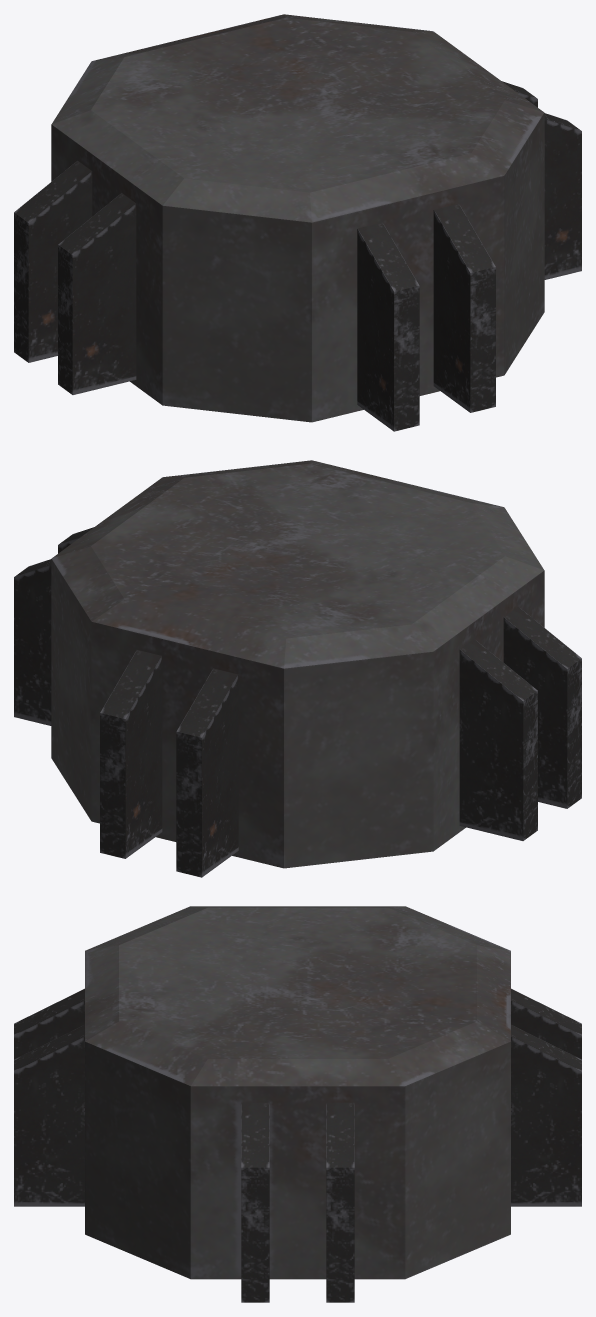
The model's file is barbette_m_1.fbx.
The picture shows the model from 3 angles, top to bottom: view 1: azimuth 30°, elevation 25°; view 2: azimuth 150°, elevation 25°; view 3: azimuth 270°, elevation 25°; orthographic projection. The views are drawn at different scales.
Visible parts, largest first — view 1: barbette_m_1; view 2: barbette_m_1; view 3: barbette_m_1.
Part boxes in pixels (x1,y1,x2,y2): barbette_m_1: (14,14,581,431); barbette_m_1: (14,460,581,877); barbette_m_1: (14,906,581,1302).
Size of the model in its own units: 8 by 3.2 by 8.
